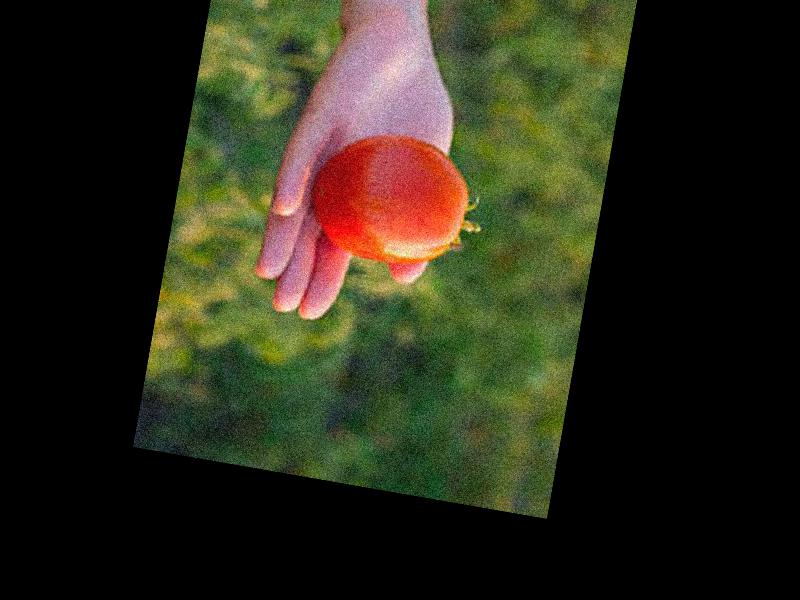Tomato: (300, 123, 475, 272)
